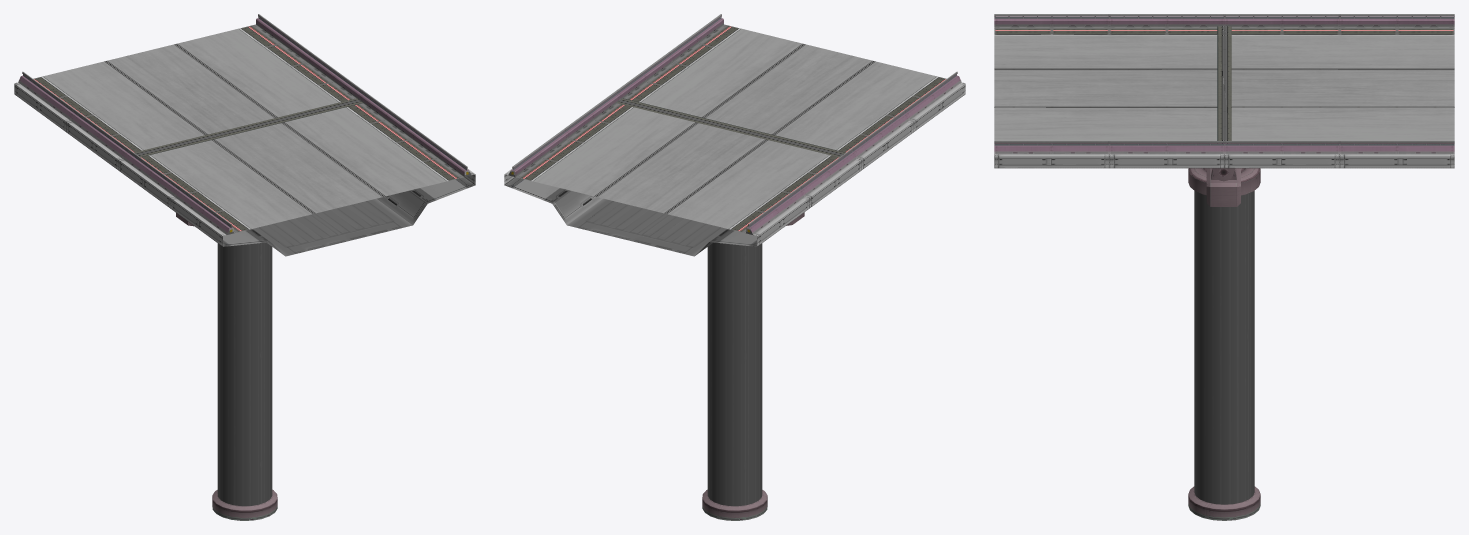
The model's file is T1 - Magnetic Track.fbx.
The picture shows the model from 3 angles, left to right: view 1: azimuth 30°, elevation 25°; view 2: azimuth 150°, elevation 25°; view 3: azimuth 270°, elevation 25°; orthographic projection. The views are drawn at different scales.
Visible parts, largest first — view 1: straight_road, support_pylon, standard_bridge5, wall, magnetic_road_lines, support_ground; view 2: straight_road, support_pylon, standard_bridge5, wall, magnetic_road_lines, support_ground; view 3: straight_road, support_pylon, wall, standard_bridge5, magnetic_road_lines, support_ground, support_hinge_base, support_top.
Boxes of the visible parts, left/top/right/bottom form: straight_road: left=33, top=24, right=464, bottom=233; support_pylon: left=217, top=242, right=272, bottom=506; standard_bridge5: left=14, top=82, right=475, bottom=256; wall: left=18, top=14, right=471, bottom=234; magnetic_road_lines: left=104, top=43, right=385, bottom=213; support_ground: left=212, top=489, right=277, bottom=520; straight_road: left=515, top=24, right=946, bottom=233; support_pylon: left=707, top=242, right=762, bottom=506; standard_bridge5: left=504, top=82, right=965, bottom=256; wall: left=508, top=14, right=961, bottom=234; magnetic_road_lines: left=594, top=43, right=875, bottom=213; support_ground: left=702, top=489, right=767, bottom=520; straight_road: left=994, top=26, right=1454, bottom=143; support_pylon: left=1194, top=191, right=1254, bottom=504; wall: left=994, top=14, right=1454, bottom=154; standard_bridge5: left=994, top=154, right=1454, bottom=168; magnetic_road_lines: left=994, top=35, right=1454, bottom=140; support_ground: left=1188, top=486, right=1260, bottom=520; support_hinge_base: left=1206, top=168, right=1240, bottom=206; support_top: left=1188, top=168, right=1260, bottom=195.
Bounding box in the file's own units: 4478 × 6563 × 6400.
